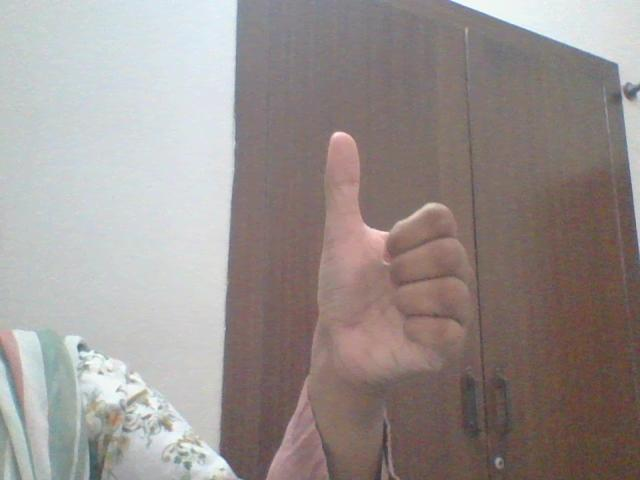thumbs-up: (296, 130, 472, 381)
